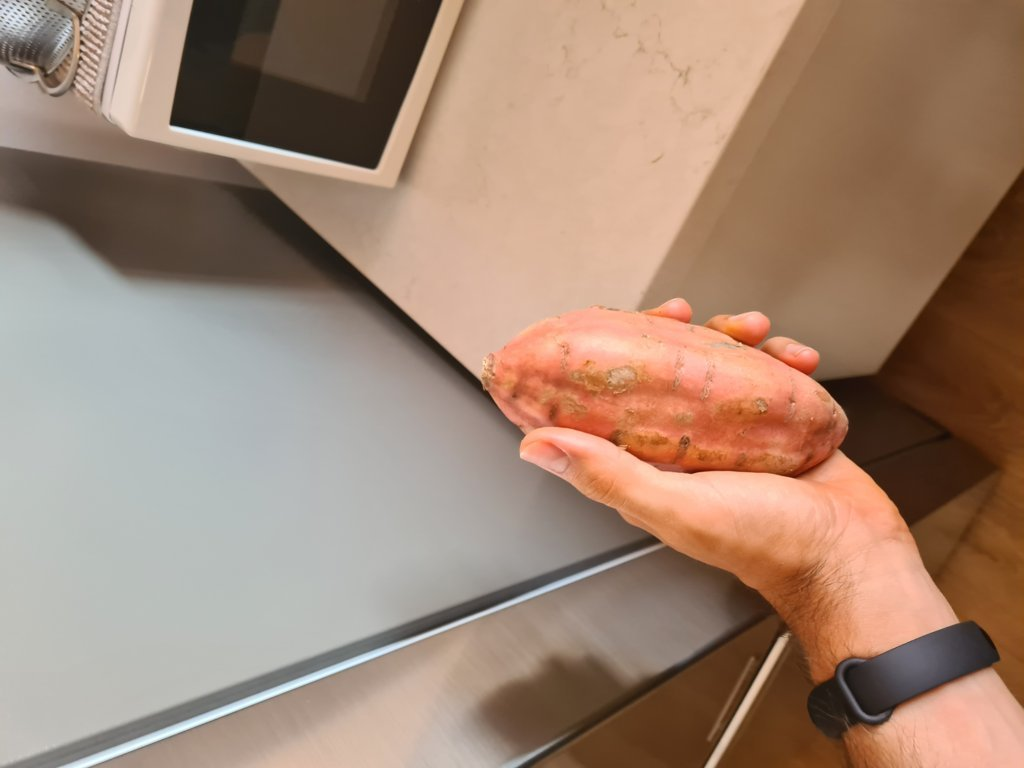Sweet Potatow: (480, 312, 851, 484)
